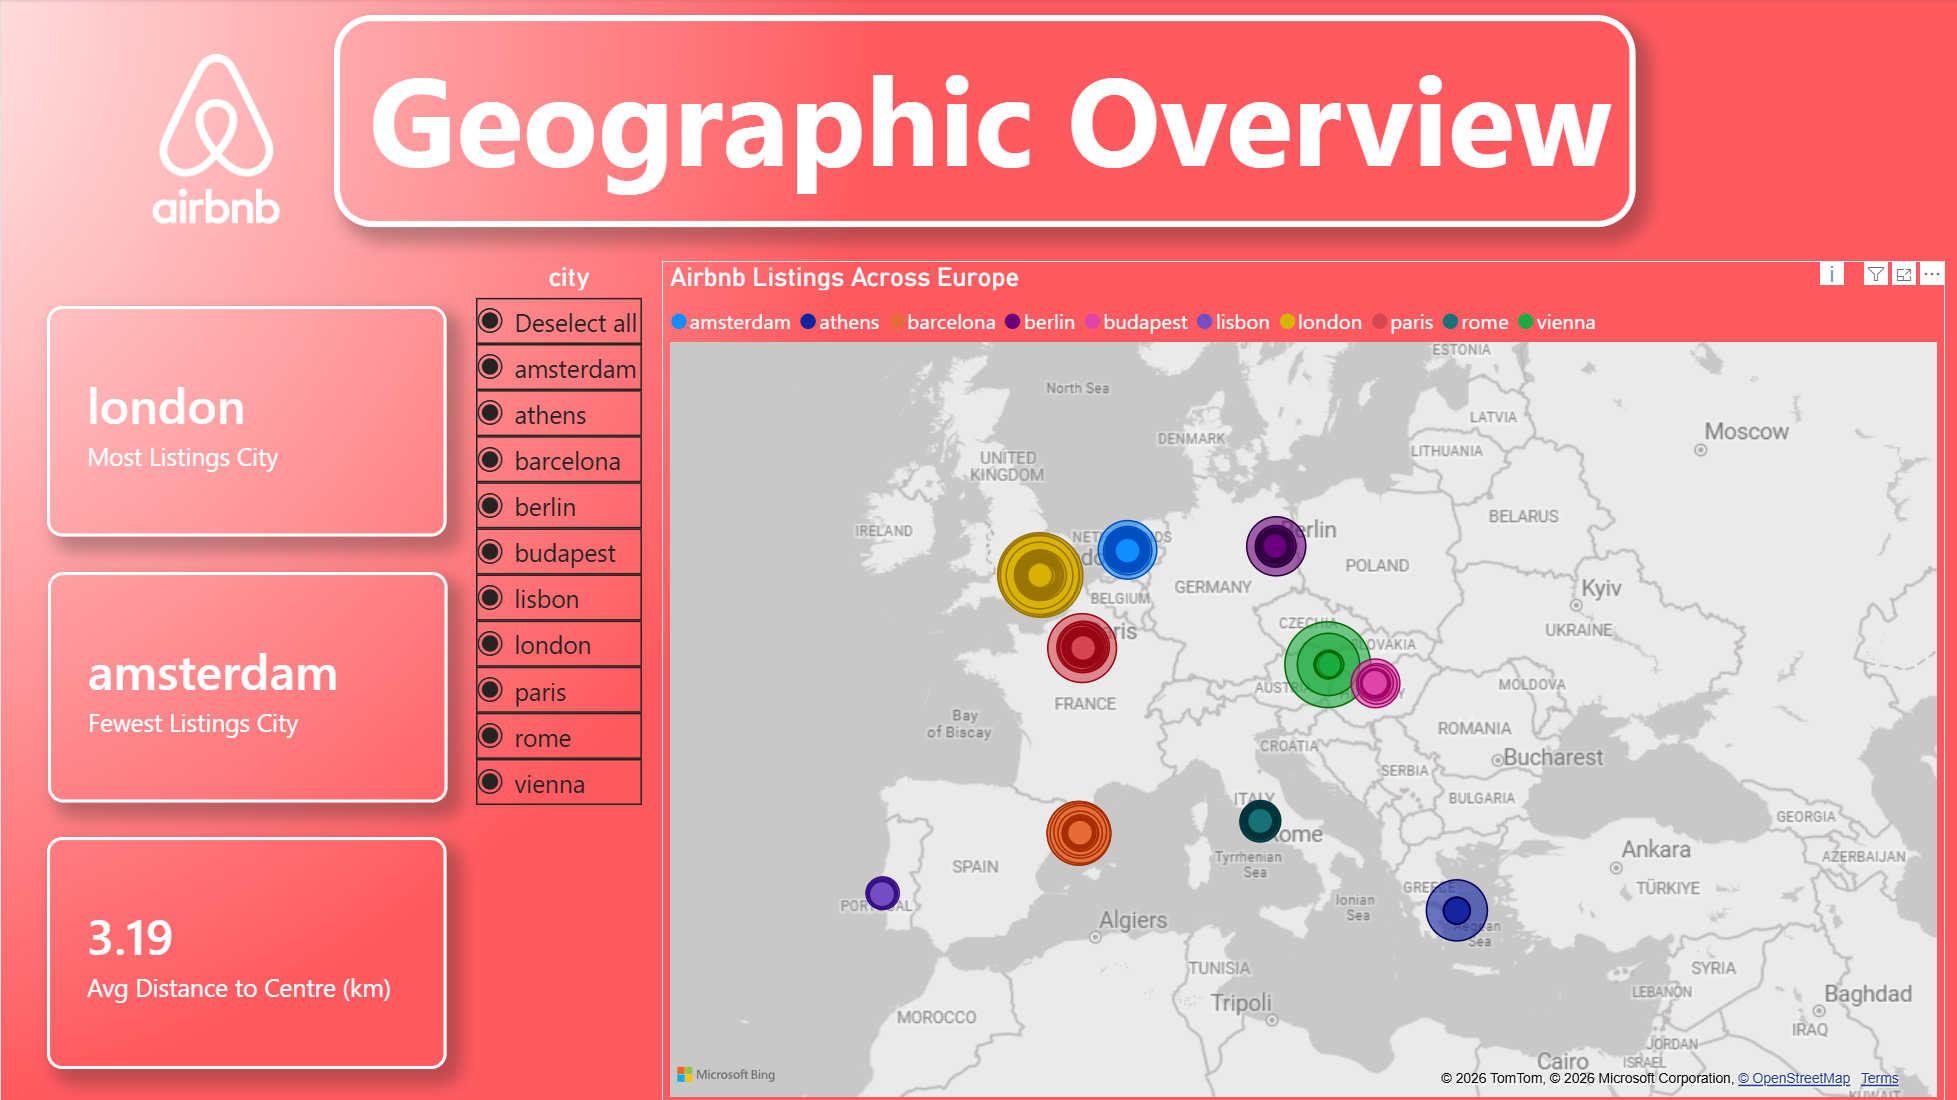

The page's visual inventory and layout, read from the dashboard file:
{"tool":"powerbi","page":{"name":"Page 4","canvas":[1280,720],"ordinal":3},"visuals":[{"type":"image","box":[0,0,955.1,720],"z":0},{"type":"map","title":"Airbnb Listings Across Europe","fields":{"Y":["map_listings.lat"],"X":["map_listings.lng"],"Series":["map_listings.city"],"Size":["Avg(map_listings.price_eur)"]},"box":[430.3,170.7,834.7,549.1],"z":1000},{"type":"listSlicer","fields":{"Values":["map_listings.city"]},"box":[309.3,170.7,121.2,358.8],"z":2000},{"type":"image","box":[30,28,219.7,125.8],"z":3000},{"type":"textbox","title":"Geographic Overview","box":[216.7,10.1,846.6,138],"z":4000},{"type":"cardVisual","fields":{"Data":["listings_per_city.Most Listings City"]},"box":[29.6,199.9,259.8,150.1],"z":5000},{"type":"cardVisual","fields":{"Data":["Avg(map_listings.dist_city_centre)"]},"box":[29.6,545.1,260,150.7],"z":6000},{"type":"cardVisual","fields":{"Data":["listings_per_city.Fewest Listings City"]},"box":[30.3,372.8,259.8,150.1],"z":7000}]}

Visuals, with their boxes in screenshot pixels (x1, y1, x2, y2), scaled from the page's 1280x720 canvas onto the 1957x1100 screenshot:
image: [x1=0, y1=0, x2=1460, y2=1099]
"Airbnb Listings Across Europe" map: [x1=658, y1=261, x2=1934, y2=1099]
listSlicer - map_listings.city: [x1=473, y1=261, x2=658, y2=809]
image: [x1=46, y1=43, x2=382, y2=235]
"Geographic Overview" textbox: [x1=331, y1=15, x2=1626, y2=226]
cardVisual - listings_per_city.Most Listings City: [x1=45, y1=305, x2=442, y2=535]
cardVisual - Avg(map_listings.dist_city_centre): [x1=45, y1=833, x2=443, y2=1063]
cardVisual - listings_per_city.Fewest Listings City: [x1=46, y1=570, x2=444, y2=799]
